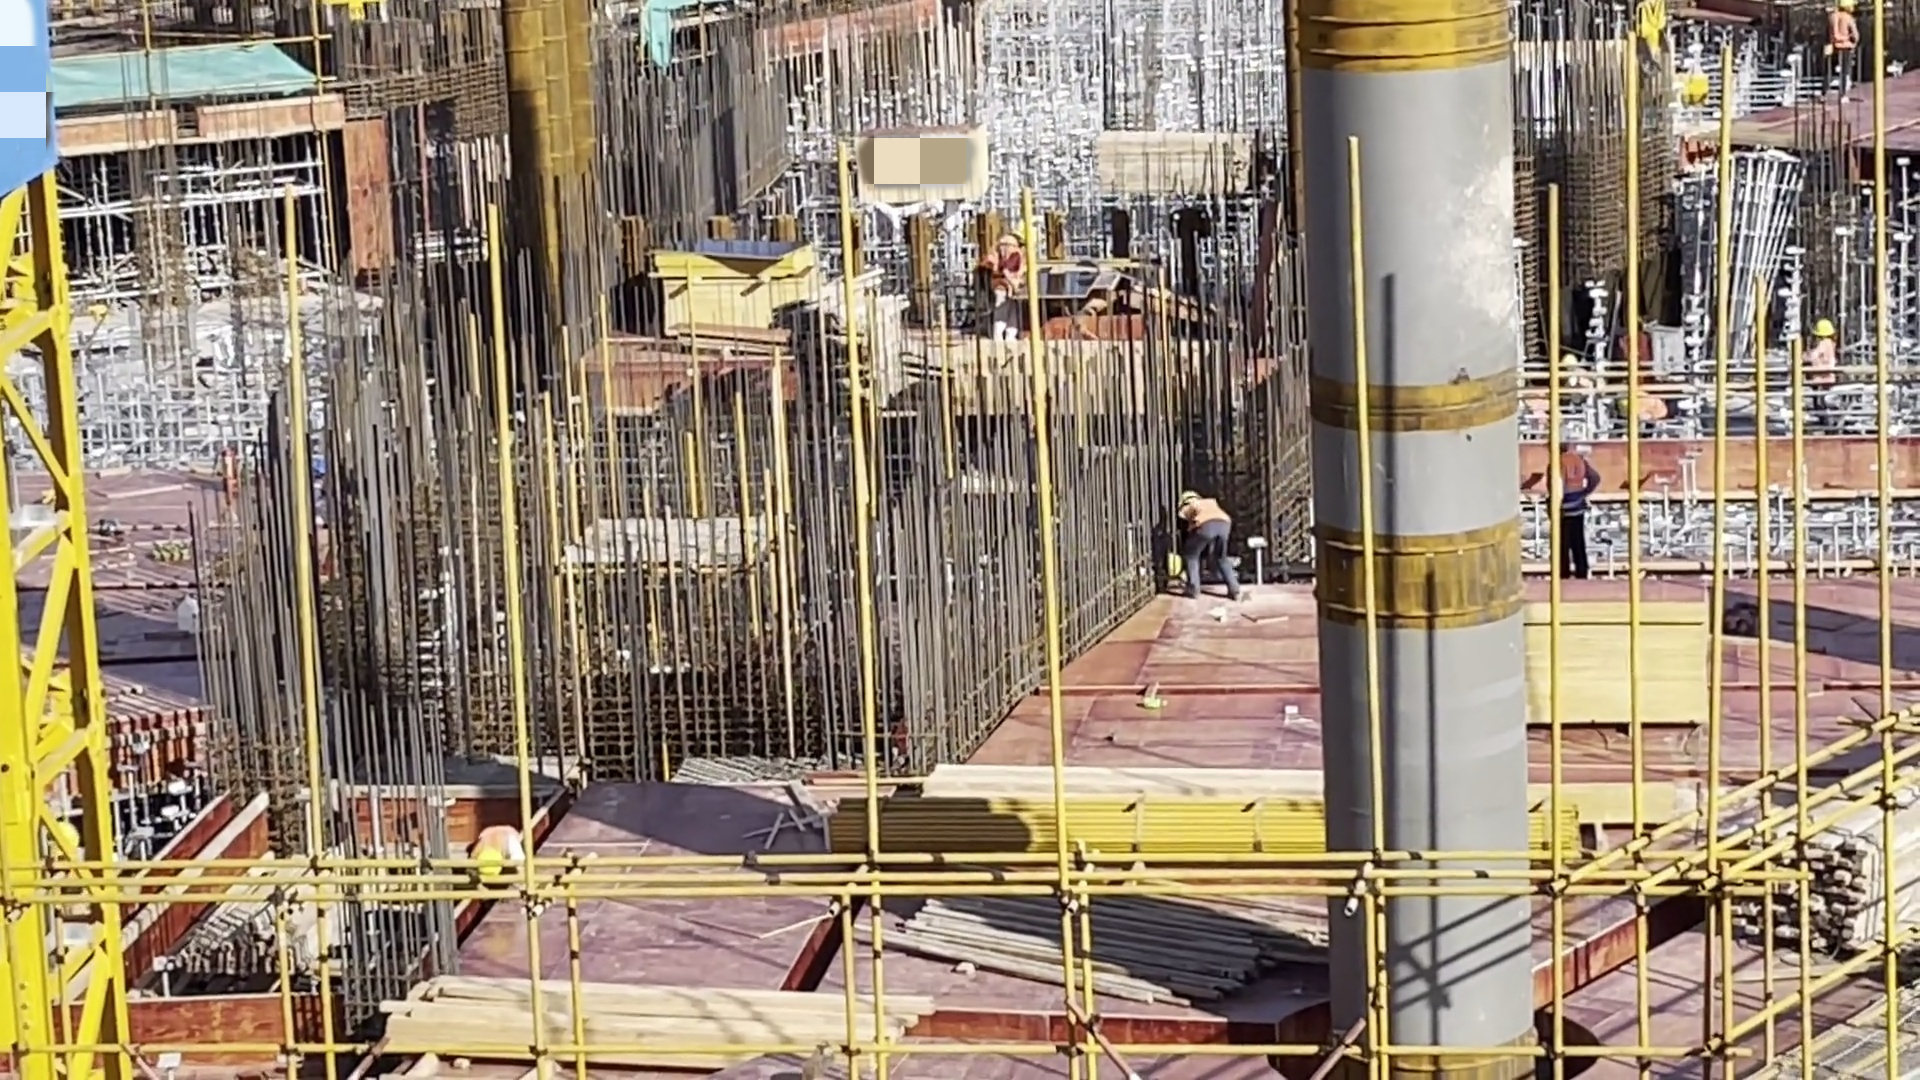helmet: (1813, 311, 1845, 353), (459, 854, 501, 877), (1555, 430, 1580, 452), (1836, 1, 1858, 16)
person: (1531, 431, 1603, 577), (1178, 487, 1245, 605), (459, 821, 544, 903), (980, 215, 1025, 339), (1800, 315, 1852, 421), (1825, 1, 1857, 105), (1549, 349, 1593, 413)
vest: (1548, 452, 1585, 501), (1183, 496, 1225, 528), (1830, 12, 1856, 52)
